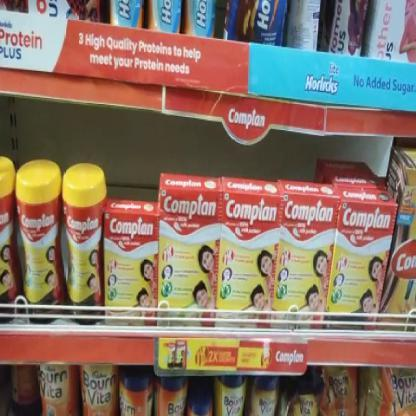Complan Kesar Badam: (160, 181, 216, 328), (219, 189, 274, 329), (275, 190, 329, 326), (104, 210, 158, 324)
Complan Royal Chocolate: (334, 198, 390, 323), (16, 162, 59, 322), (62, 165, 106, 321)
